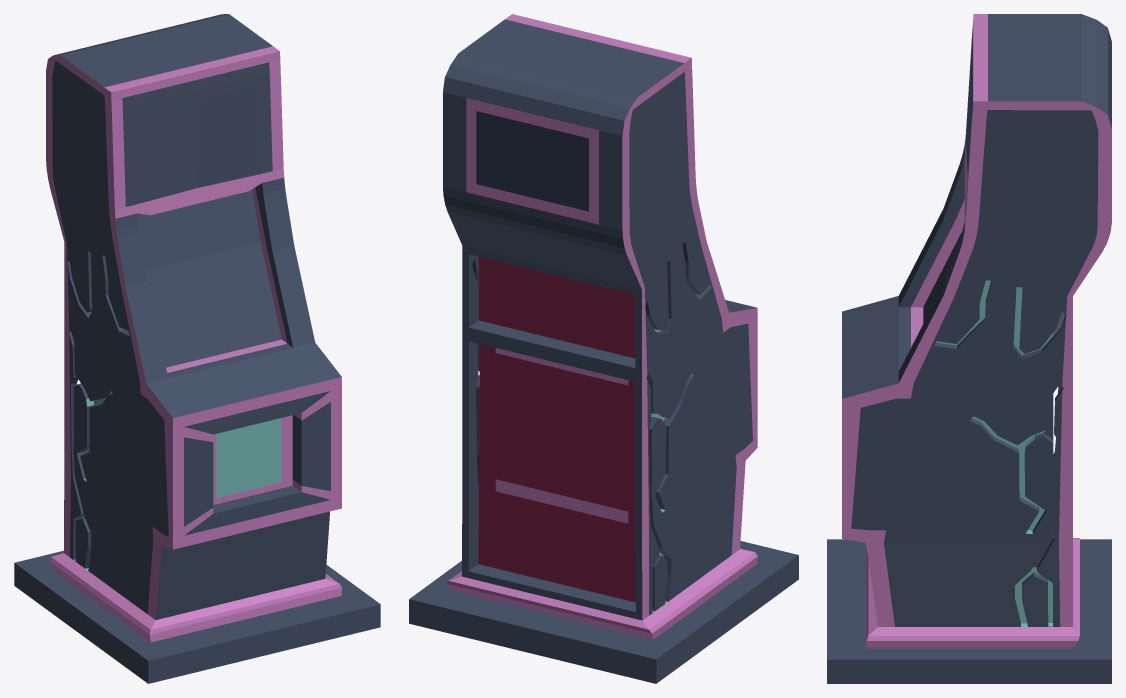
File: Slot.fbx
The picture shows the model from 3 angles, left to right: view 1: azimuth 30°, elevation 25°; view 2: azimuth 150°, elevation 25°; view 3: azimuth 270°, elevation 25°; orthographic projection. The views are drawn at different scales.
Parts seen in each view (by area): view 1: Cube; view 2: Cube; view 3: Cube.
Boxes of the visible parts, x1=… form: Cube: x1=14, y1=14, x2=380, y2=683; Cube: x1=409, y1=14, x2=798, y2=683; Cube: x1=827, y1=14, x2=1111, y2=683.
Size of the model in its own units: 81.92 by 81.92 by 180.
